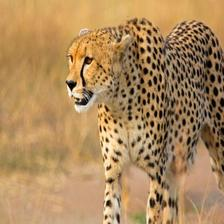Cheetah: (65, 14, 224, 224)
